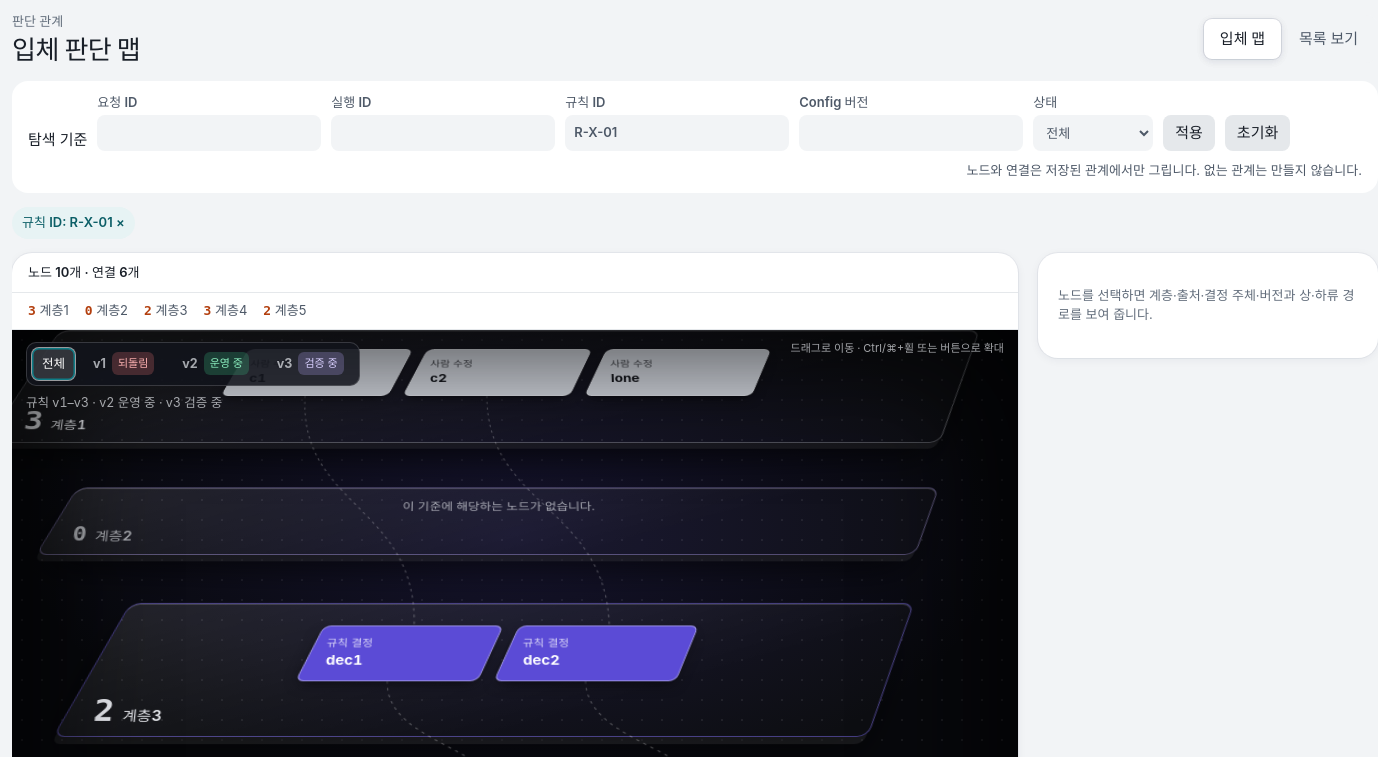
Test: JudgmentMap version tabs and expanded view › filters nodes and links to the selected version and restores them with "전체"
The image size is (1378, 757).
Expected: the message with test id "jm-summary" reads "노드 10개 · 연결 6개", [12,252,1018,293]
Click the tab "v2 운영 중" at (216, 364), box [171,346,260,380]
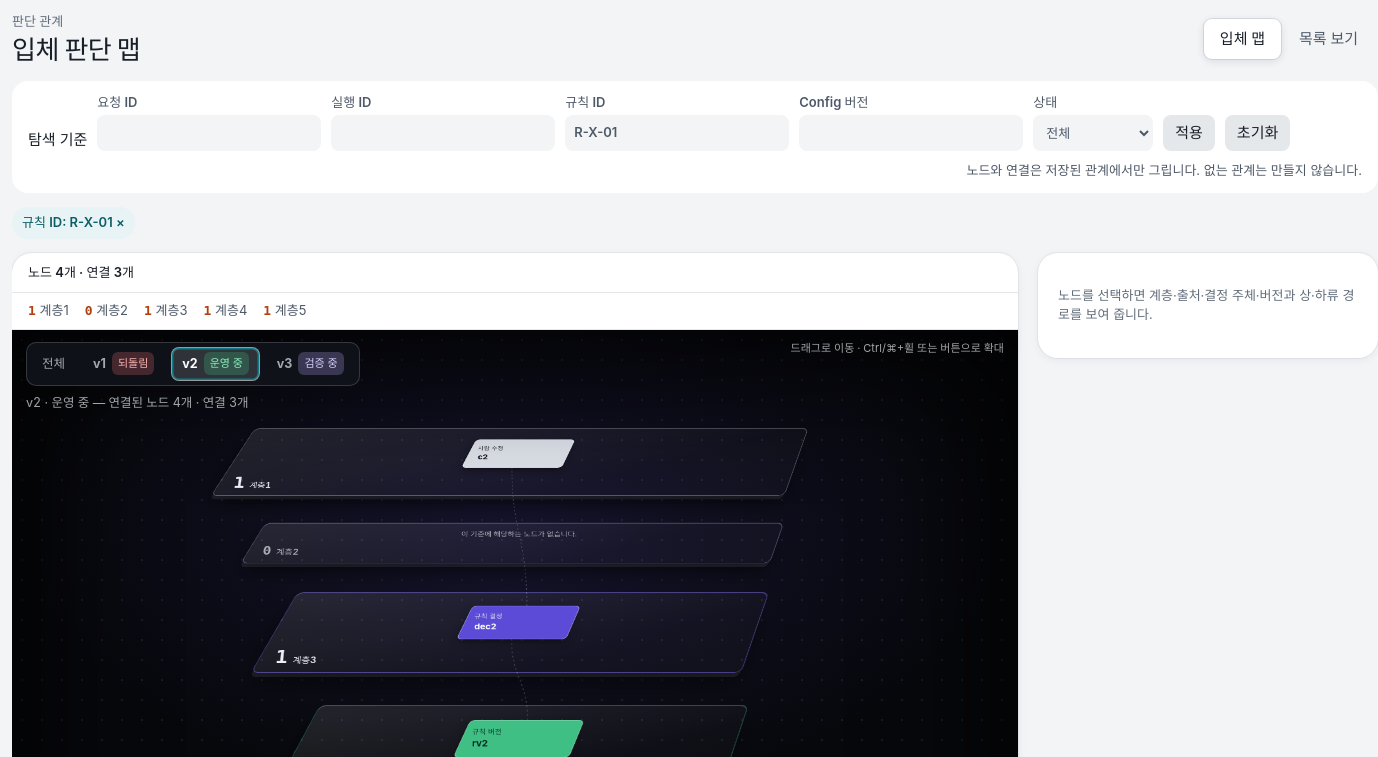
Expected: the message with test id "jm-summary" reads "노드 4개 · 연결 3개", [12,252,1018,293]
Click the tab "v3 검증 중" at (310, 364), box [266,346,354,380]
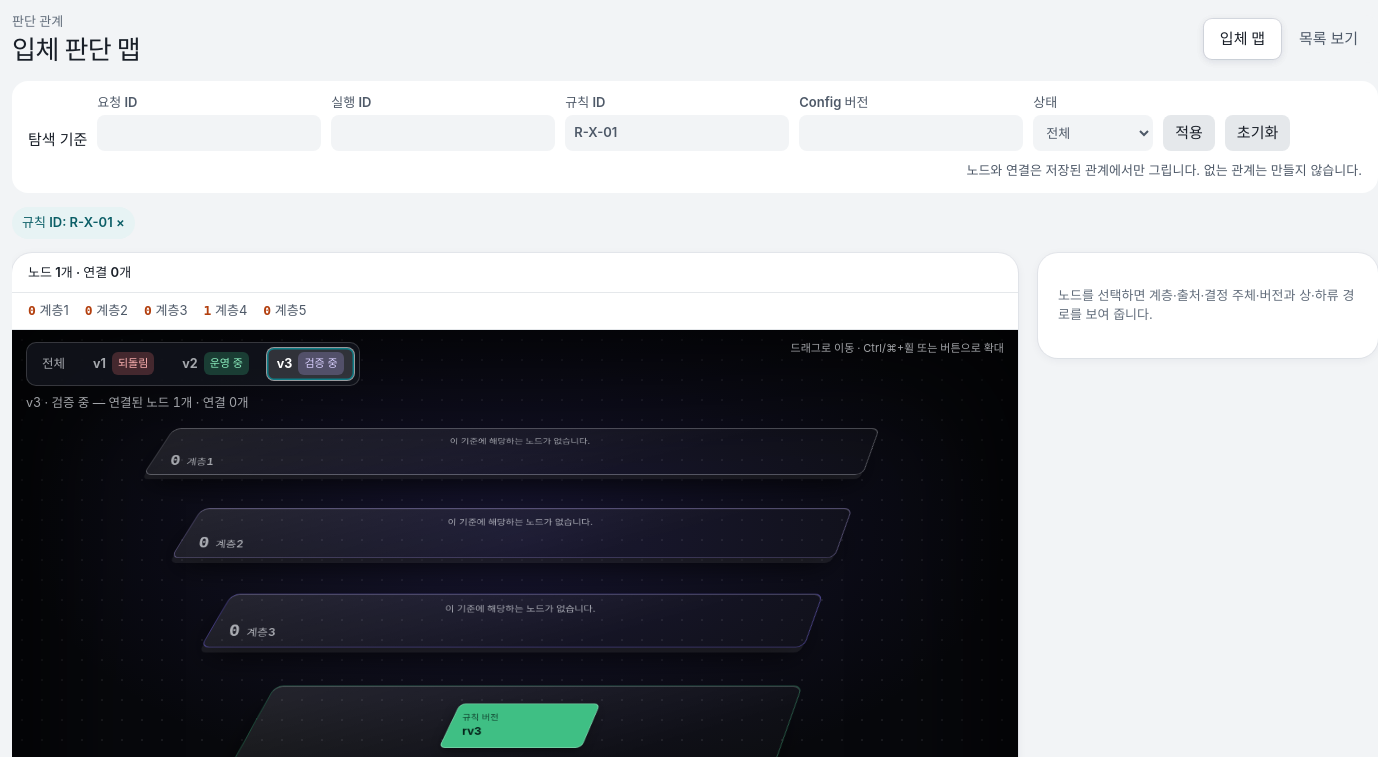
Expected: the message with test id "jm-summary" reads "노드 1개 · 연결 0개", [12,252,1018,293]
Click the tab "전체" at (54, 364), box [31,346,76,380]
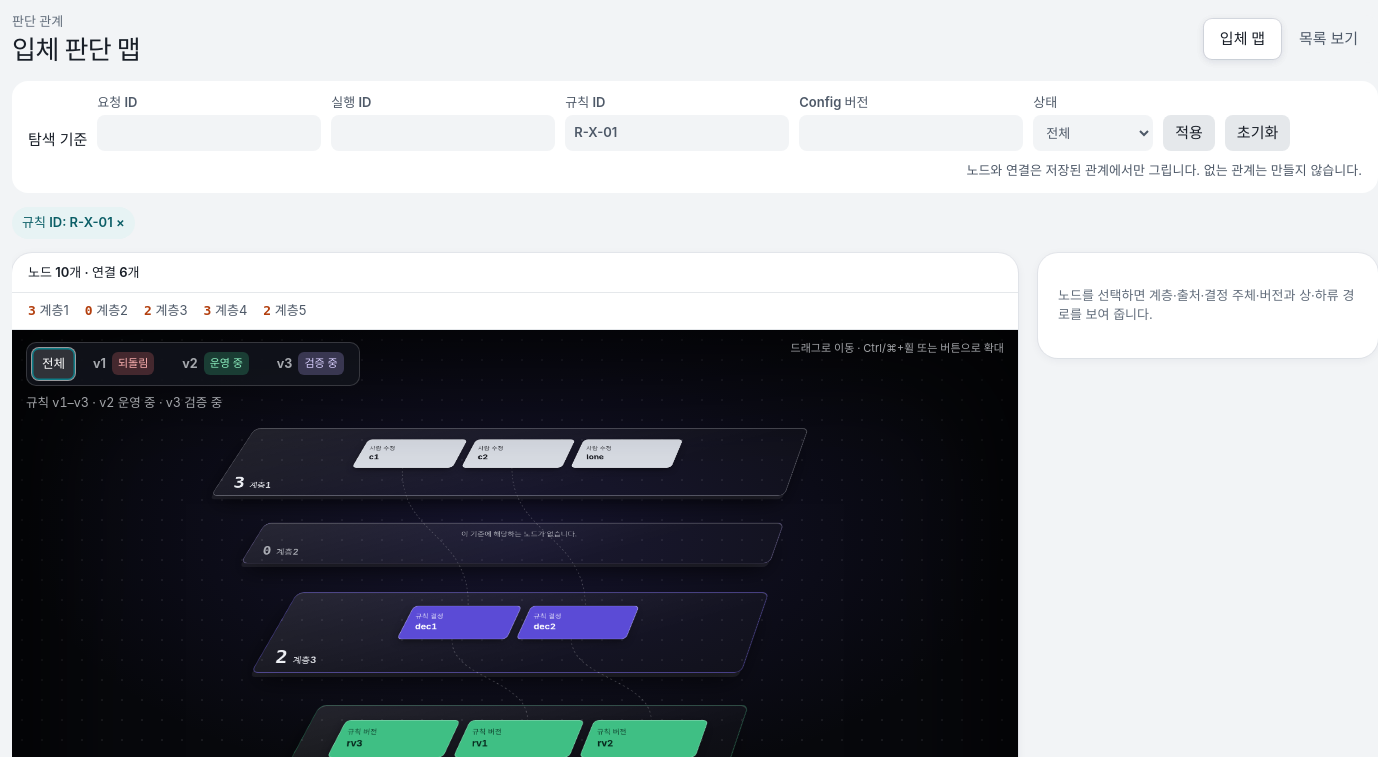
Expected: the message with test id "jm-summary" reads "노드 10개 · 연결 6개", [12,252,1018,293]
